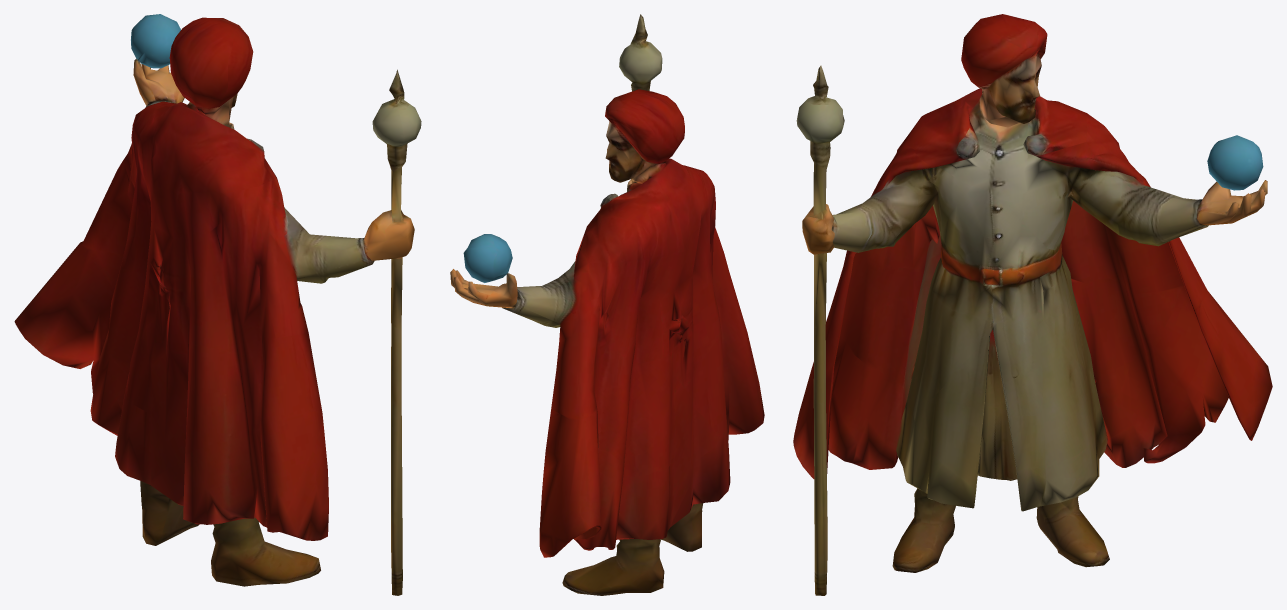
3 renders of one model, left to right at view 1: azimuth 30°, elevation 25°; view 2: azimuth 150°, elevation 25°; view 3: azimuth 270°, elevation 25°, orthographic. The views are drawn at different scales.
Visible parts, largest first — view 1: tripo_node_150eb5dc-e43b-49d7-9643-3da11182c4fe; view 2: tripo_node_150eb5dc-e43b-49d7-9643-3da11182c4fe; view 3: tripo_node_150eb5dc-e43b-49d7-9643-3da11182c4fe.
Part boxes in pixels (x1=…): tripo_node_150eb5dc-e43b-49d7-9643-3da11182c4fe: x1=14, y1=14, x2=421, y2=595; tripo_node_150eb5dc-e43b-49d7-9643-3da11182c4fe: x1=450, y1=14, x2=764, y2=595; tripo_node_150eb5dc-e43b-49d7-9643-3da11182c4fe: x1=793, y1=14, x2=1272, y2=595.
Size of the model in its own units: 0.3713 by 0.9972 by 0.8173.
1 material, 1 textured.
